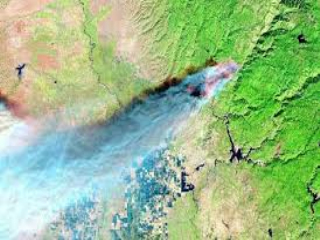smoke: (20, 64, 235, 196)
